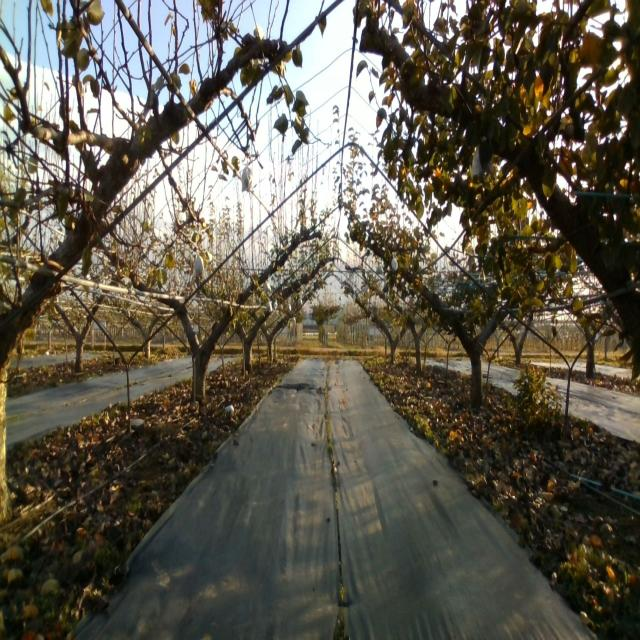pearbags: (192, 249, 206, 279), (241, 161, 254, 192)
